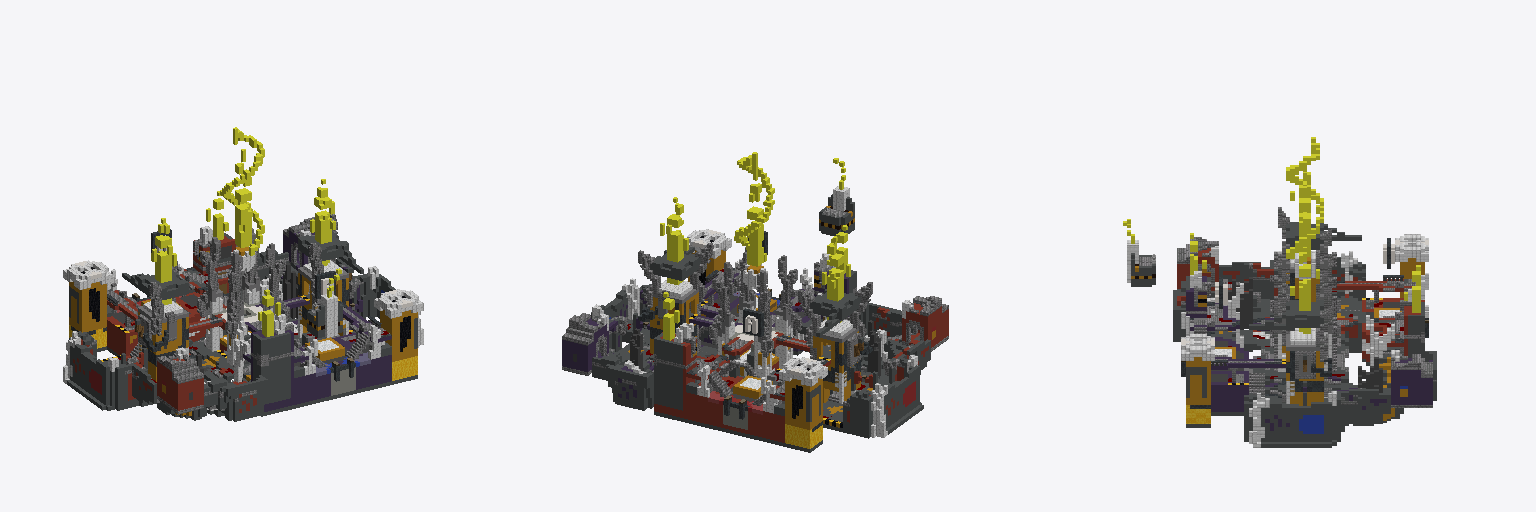
3 renders of one model, left to right at view 1: azimuth 30°, elevation 25°; view 2: azimuth 150°, elevation 25°; view 3: azimuth 270°, elevation 25°, orthographic.
Size of the model in its own units: 85 by 61 by 75.
38 materials, 11 textured.